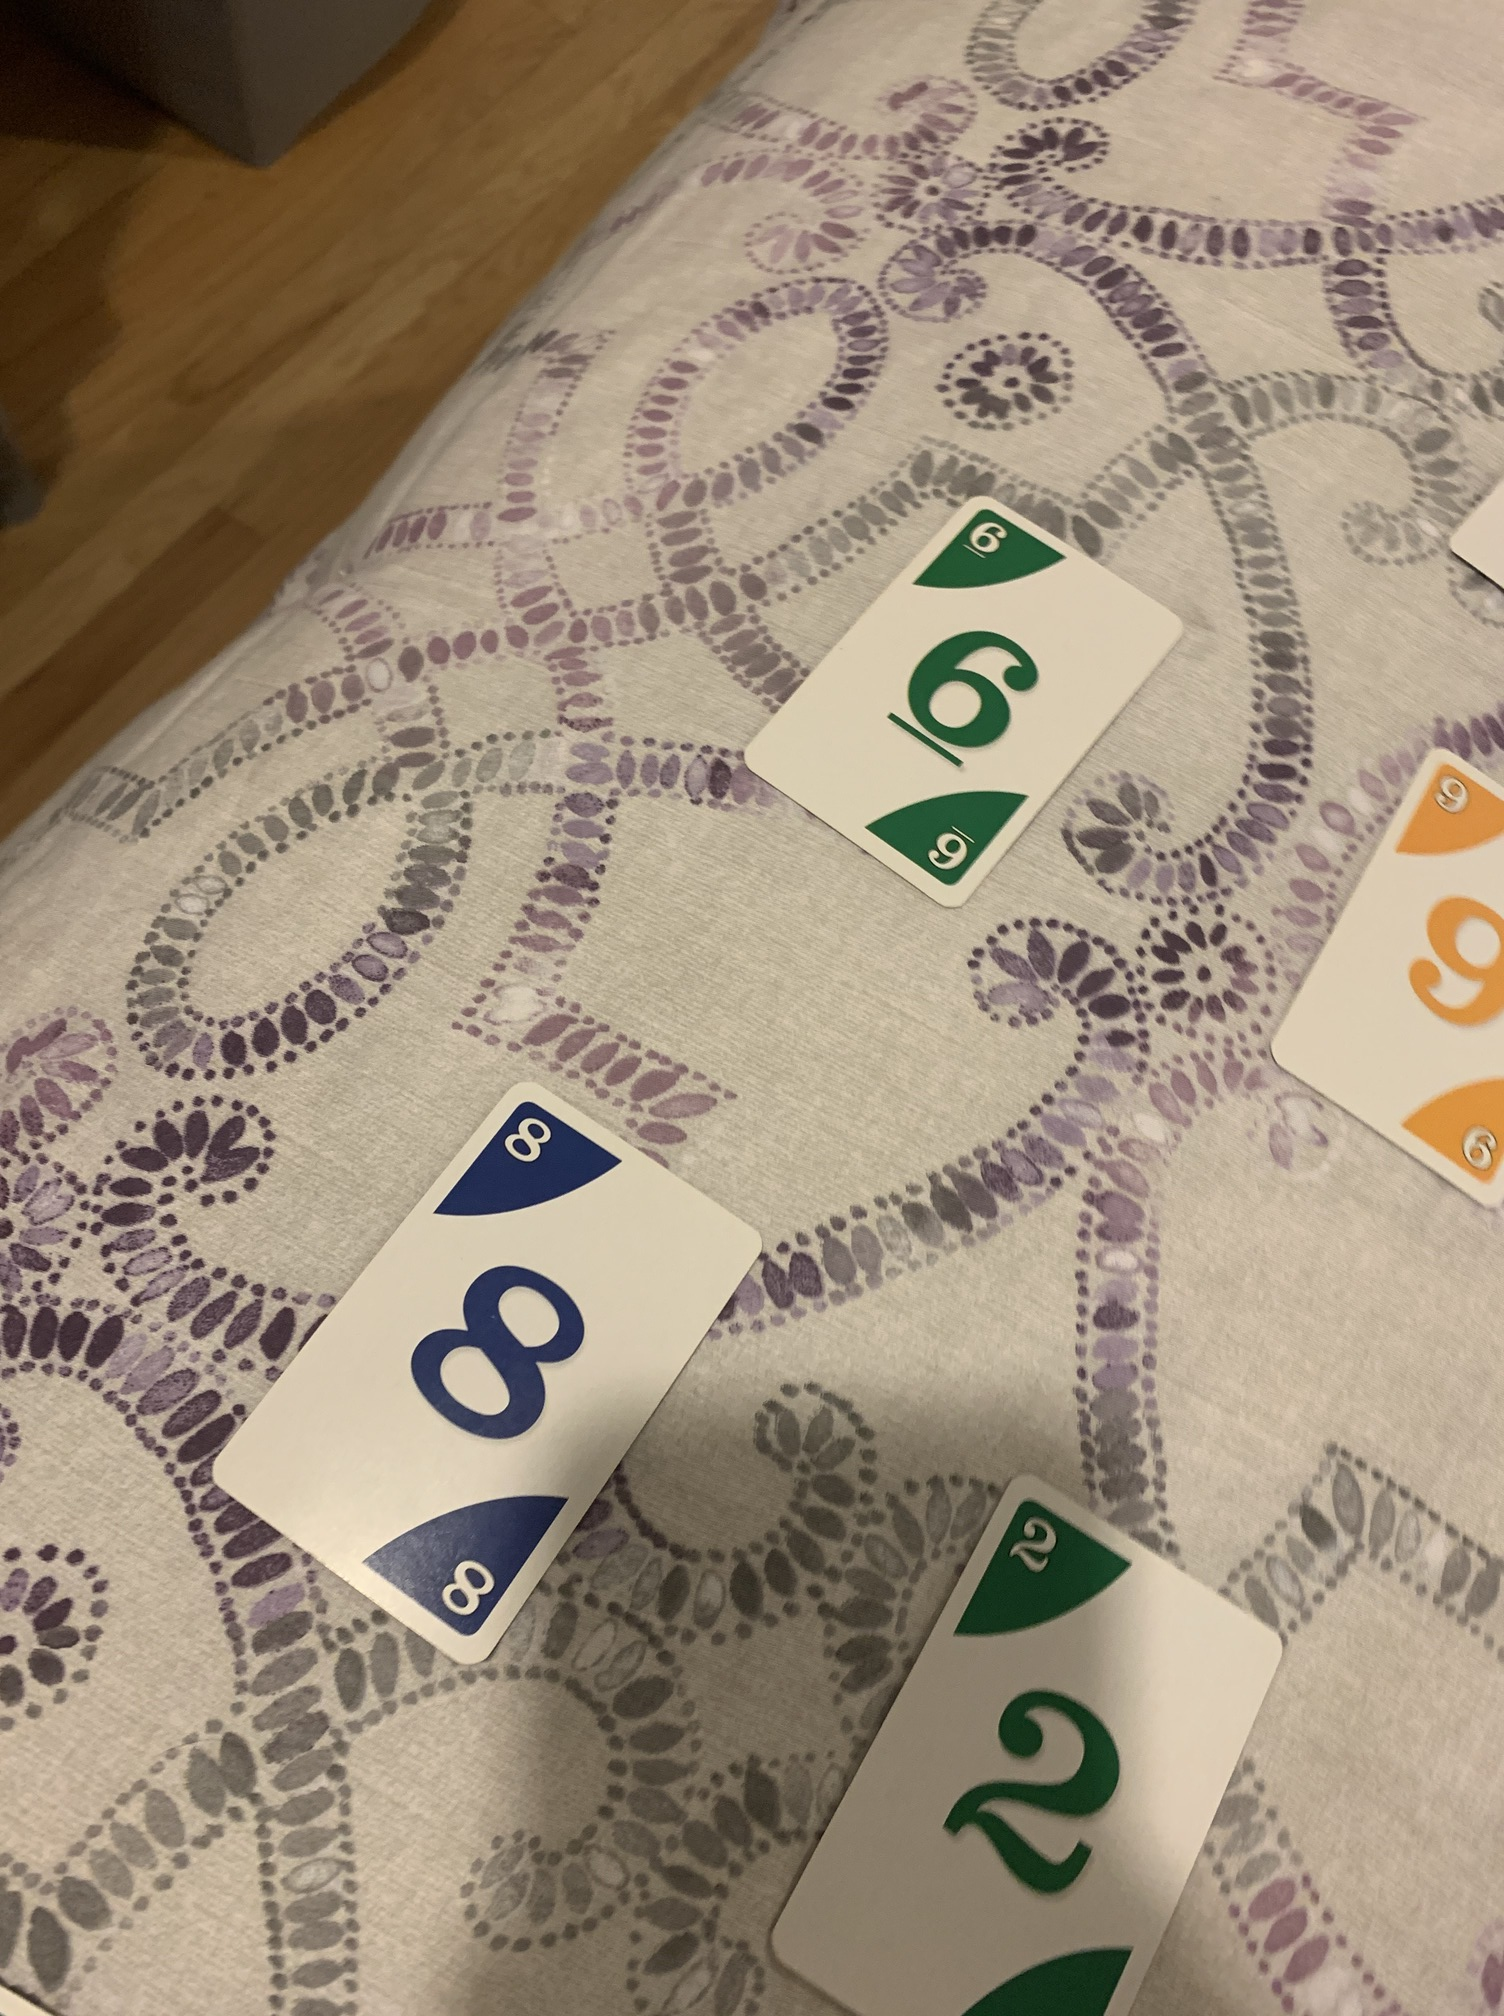eight: (202, 1066, 771, 1686)
six: (728, 487, 1194, 920)
two: (765, 1466, 1311, 2014)
